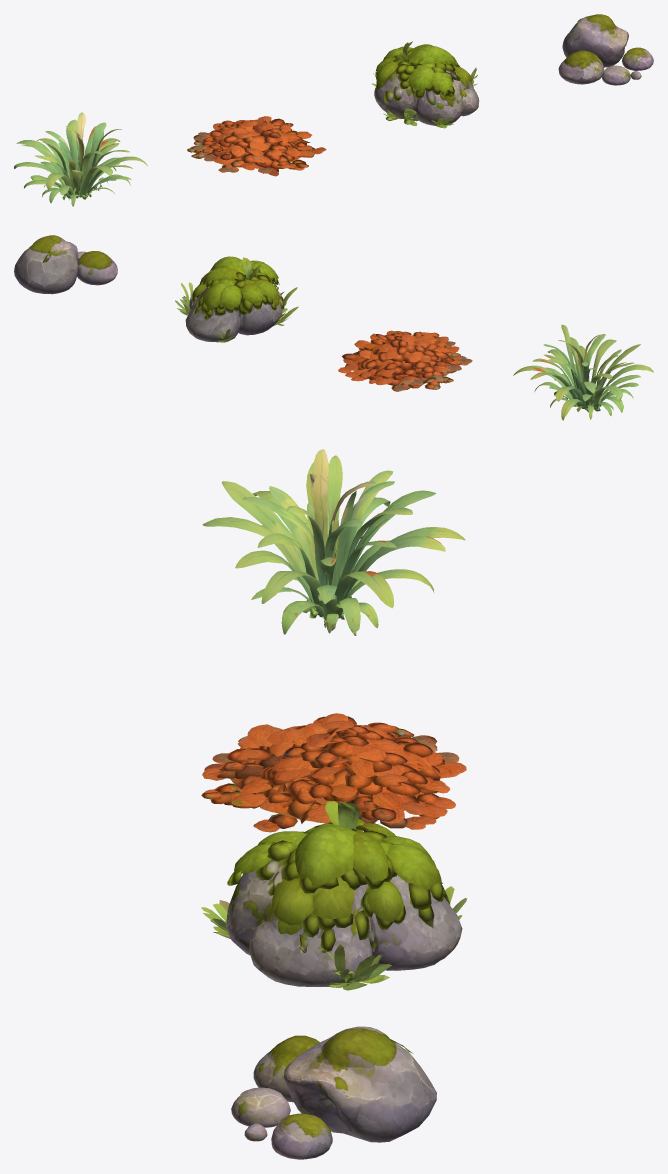
File: praderas.glb
3 renders of one model, top to bottom at view 1: azimuth 30°, elevation 25°; view 2: azimuth 150°, elevation 25°; view 3: azimuth 270°, elevation 25°, orthographic. The views are drawn at different scales.
Visible parts, largest first — view 1: roca_musgosa, hojas_caidas, hierba_alta, rocas_pequenas; view 2: roca_musgosa, hojas_caidas, hierba_alta, rocas_pequenas; view 3: roca_musgosa, hojas_caidas, hierba_alta, rocas_pequenas.
Part boxes in pixels (x1,y1,x2,y2): roca_musgosa: [372, 41, 479, 128]; hojas_caidas: [187, 116, 326, 176]; hierba_alta: [14, 112, 147, 206]; rocas_pequenas: [558, 14, 653, 85]; roca_musgosa: [175, 256, 298, 342]; hojas_caidas: [338, 330, 472, 391]; hierba_alta: [513, 324, 653, 420]; rocas_pequenas: [14, 235, 117, 294]; roca_musgosa: [201, 801, 466, 990]; hojas_caidas: [201, 713, 466, 832]; hierba_alta: [202, 449, 465, 635]; rocas_pequenas: [231, 1026, 436, 1159].
Size of the model in its own units: 2.85 by 0.3302 by 0.5347.
Materials: 1 (1 with a texture image).
